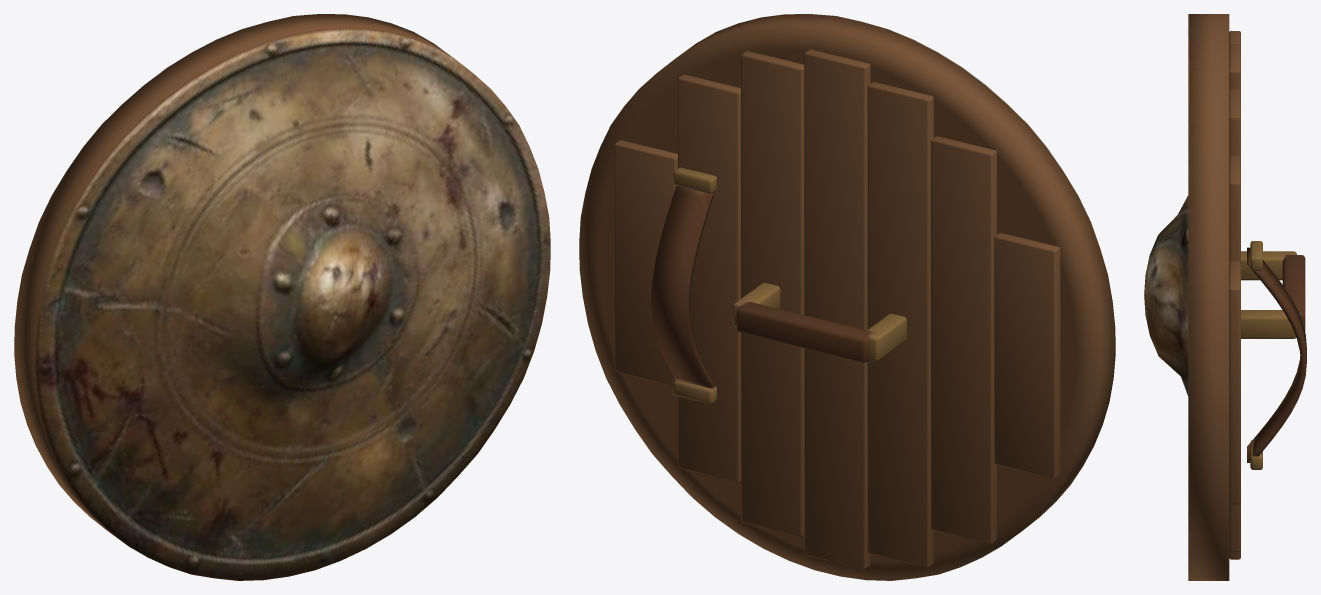
File: centurion-plain.glb
3 renders of one model, left to right at view 1: azimuth 30°, elevation 25°; view 2: azimuth 150°, elevation 25°; view 3: azimuth 270°, elevation 25°, orthographic. The views are drawn at different scales.
Visible parts, largest first — view 1: centurion-plain; view 2: centurion-plain; view 3: centurion-plain.
Boxes of the visible parts, <box> form: centurion-plain: <box>14,14,550,580</box>; centurion-plain: <box>579,14,1115,580</box>; centurion-plain: <box>1144,14,1306,580</box>.
Size of the model in its own units: 0.57 by 0.57 by 0.1648.
1 material, 1 textured.
